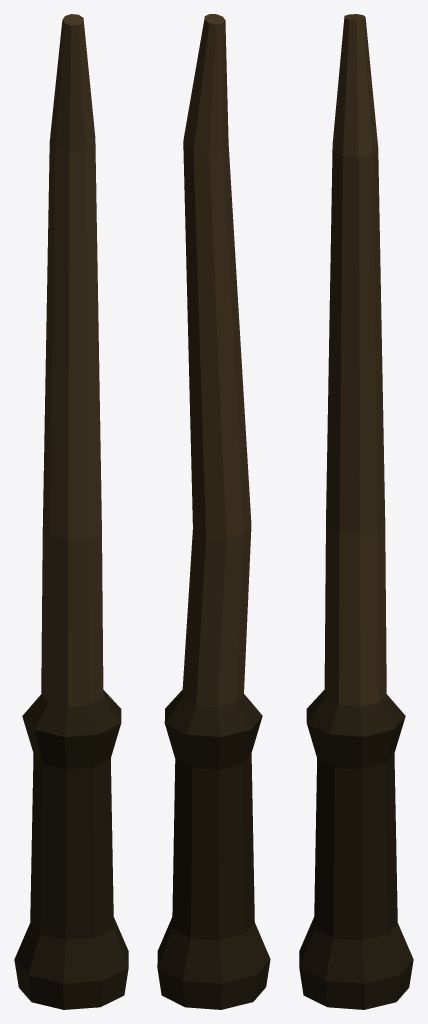
The model's file is wand.fbx.
The picture shows the model from 3 angles, left to right: view 1: azimuth 90°, elevation 25°; view 2: azimuth 150°, elevation 25°; view 3: azimuth 270°, elevation 25°; orthographic projection.
Visible parts, largest first — view 1: Wand; view 2: Wand; view 3: Wand.
Boxes of the visible parts, box(x1,y1,x2,y2) form: Wand: box(14, 14, 128, 1009); Wand: box(157, 14, 270, 1009); Wand: box(299, 14, 413, 1009).
Size of the model in its own units: 15.5 by 145 by 15.5.
